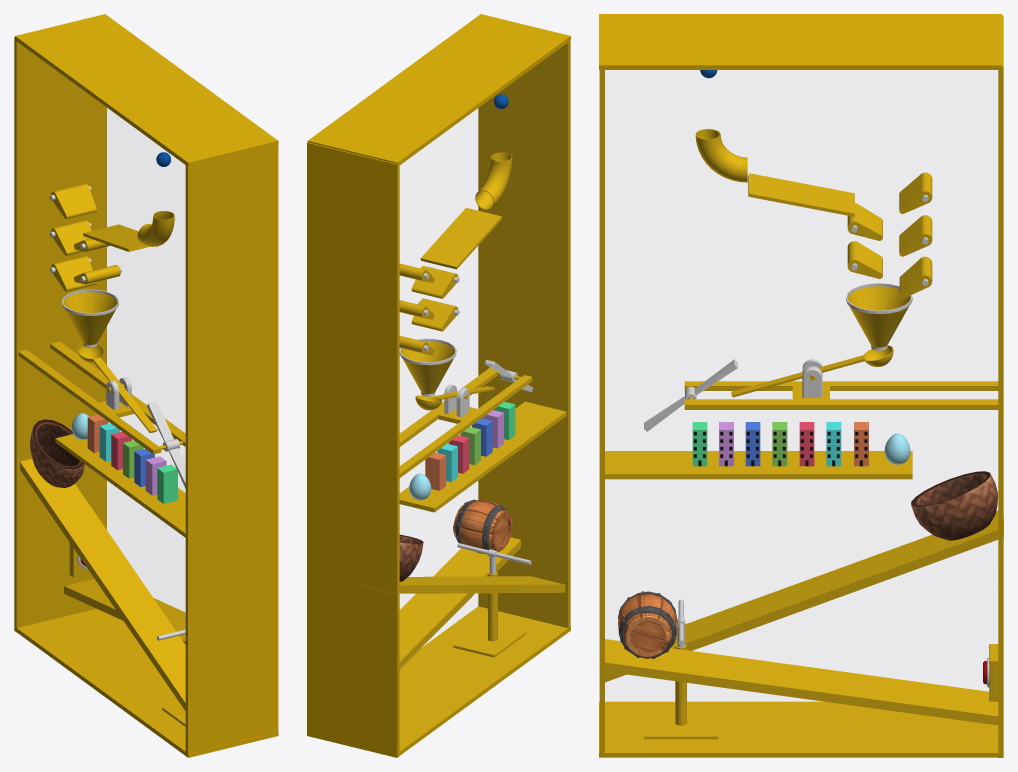
File: Goldberg 1 3.fbx
3 views of the same model, side by side, from view 1: azimuth 30°, elevation 25°; view 2: azimuth 150°, elevation 25°; view 3: azimuth 270°, elevation 25° (orthographic). The views are drawn at different scales.
Visible parts, largest first — view 1: Masina_1_ram, Postolje2, Postolje_za_klackalicu, Postolje1, Korpa, Levak, Postolje3, Fliper4, Kasika_od_klackalice, Dascica_1, Fliper3, Elise (+10 smaller); view 2: Masina_1_ram, Postolje3, Postolje1, Postolje_za_klackalicu, Postolje2, Burence, Dascica_1, Levak, Stalak, Tunel, Fliper, Fliper5 (+11 smaller); view 3: Masina_1_ram, Postolje3, Postolje2, Postolje1, Postolje_za_klackalicu, Korpa, Burence, Levak, Dascica_1, Stalak, Tunel, Kasika_od_klackalice (+13 smaller).
Boxes of the visible parts, x1,y1,x2,y2 form: Masina_1_ram: (14,14,278,757); Postolje2: (20,458,185,710); Postolje_za_klackalicu: (18,341,185,454); Postolje1: (55,434,185,537); Korpa: (30,419,84,487); Levak: (62,289,118,347); Postolje3: (64,578,185,644); Fliper4: (49,183,96,218); Kasika_od_klackalice: (77,342,157,432); Dascica_1: (83,224,149,251); Fliper3: (50,256,96,291); Elise: (147,401,185,488); Masina_1_ram: (307,14,570,757); Postolje3: (399,537,520,669); Postolje1: (399,401,566,512); Postolje_za_klackalicu: (399,367,532,477); Postolje2: (360,576,565,593); Burence: (453,499,512,554); Dascica_1: (420,207,502,269); Levak: (399,338,456,396); Stalak: (453,571,526,657); Tunel: (475,152,512,210); Fliper: (411,266,459,298); Fliper5: (411,298,459,331); Masina_1_ram: (599,14,1003,757); Postolje3: (605,639,998,725); Postolje2: (605,511,1003,682); Postolje1: (605,451,912,479); Postolje_za_klackalicu: (684,359,998,409); Korpa: (911,471,997,540); Burence: (618,591,677,658); Levak: (846,283,912,350); Dascica_1: (748,173,854,216); Stalak: (643,644,718,739); Tunel: (695,129,747,182); Kasika_od_klackalice: (731,345,893,397).
Bounding box in the file's own units: 7.97 × 49.06 × 25.98.
17 materials, 10 textured.
